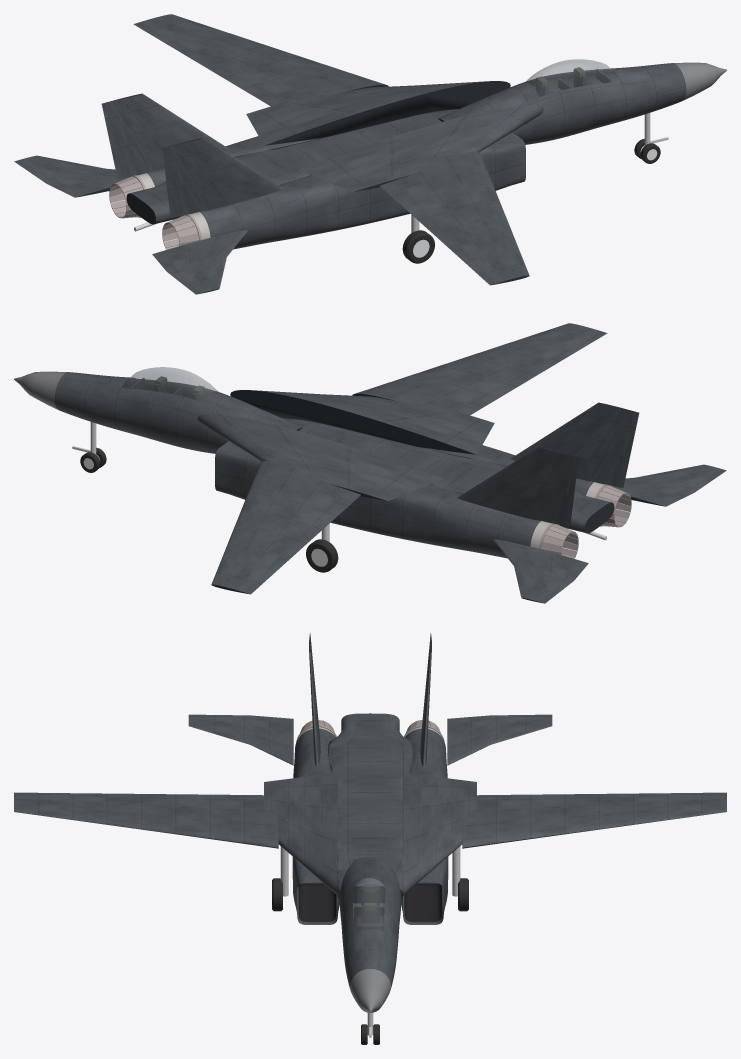
3 renders of one model, top to bottom at view 1: azimuth 30°, elevation 25°; view 2: azimuth 150°, elevation 25°; view 3: azimuth 270°, elevation 25°, orthographic.
Visible parts, largest first — view 1: gondola.derecha, ala.derecha, fuselaje.delantero, ala.izquierda, guante.izquierdo, guante.derecho, fuselaje.central, deriva.derecha, deriva.izquierda, estabilizador.derecho, estabilizador.izquierdo, cabina (+7 smaller); view 2: gondola.izquierda, ala.izquierda, fuselaje.delantero, ala.derecha, guante.derecho, guante.izquierdo, fuselaje.central, deriva.izquierda, deriva.derecha, estabilizador.izquierdo, estabilizador.derecho, cabina (+7 smaller); view 3: fuselaje.central, ala.izquierda, ala.derecha, guante.derecho, guante.izquierdo, fuselaje.delantero, gondola.derecha, gondola.izquierda, estabilizador.derecho, estabilizador.izquierdo, cabina, radomo (+5 smaller).
Part boxes in pixels (bbox=[...]): gondola.derecha: bbox=[200, 132, 525, 249]; ala.derecha: bbox=[380, 152, 529, 285]; fuselaje.delantero: bbox=[438, 63, 686, 144]; ala.izquierda: bbox=[133, 14, 388, 106]; guante.izquierdo: bbox=[246, 81, 510, 145]; guante.derecho: bbox=[297, 105, 543, 191]; fuselaje.central: bbox=[126, 109, 458, 224]; deriva.derecha: bbox=[173, 138, 283, 211]; deriva.izquierda: bbox=[113, 93, 229, 172]; estabilizador.derecho: bbox=[152, 230, 247, 294]; estabilizador.izquierdo: bbox=[14, 155, 136, 197]; cabina: bbox=[525, 59, 620, 96]; gondola.izquierda: bbox=[215, 441, 540, 558]; ala.izquierda: bbox=[211, 461, 360, 594]; fuselaje.delantero: bbox=[54, 372, 302, 453]; ala.derecha: bbox=[352, 323, 607, 415]; guante.derecho: bbox=[230, 390, 494, 454]; guante.izquierdo: bbox=[197, 414, 443, 500]; fuselaje.central: bbox=[282, 418, 614, 533]; deriva.izquierda: bbox=[457, 447, 567, 520]; deriva.derecha: bbox=[511, 402, 627, 481]; estabilizador.izquierdo: bbox=[493, 539, 588, 603]; estabilizador.derecho: bbox=[604, 464, 726, 506]; cabina: bbox=[122, 367, 218, 402]; fuselaje.central: bbox=[328, 713, 412, 903]; ala.izquierda: bbox=[462, 792, 726, 848]; ala.derecha: bbox=[14, 792, 278, 848]; guante.derecho: bbox=[264, 772, 337, 895]; guante.izquierdo: bbox=[403, 772, 476, 895]; fuselaje.delantero: bbox=[339, 857, 401, 988]; gondola.derecha: bbox=[292, 728, 339, 924]; gondola.izquierda: bbox=[401, 728, 448, 924]; estabilizador.derecho: bbox=[188, 714, 293, 765]; estabilizador.izquierdo: bbox=[447, 714, 552, 765]; cabina: bbox=[352, 878, 385, 932]; radomo: bbox=[350, 969, 390, 1012].
Size of the model in its own units: 19.65 by 4.85 by 19.54.
Materials: 15 (1 with a texture image).
